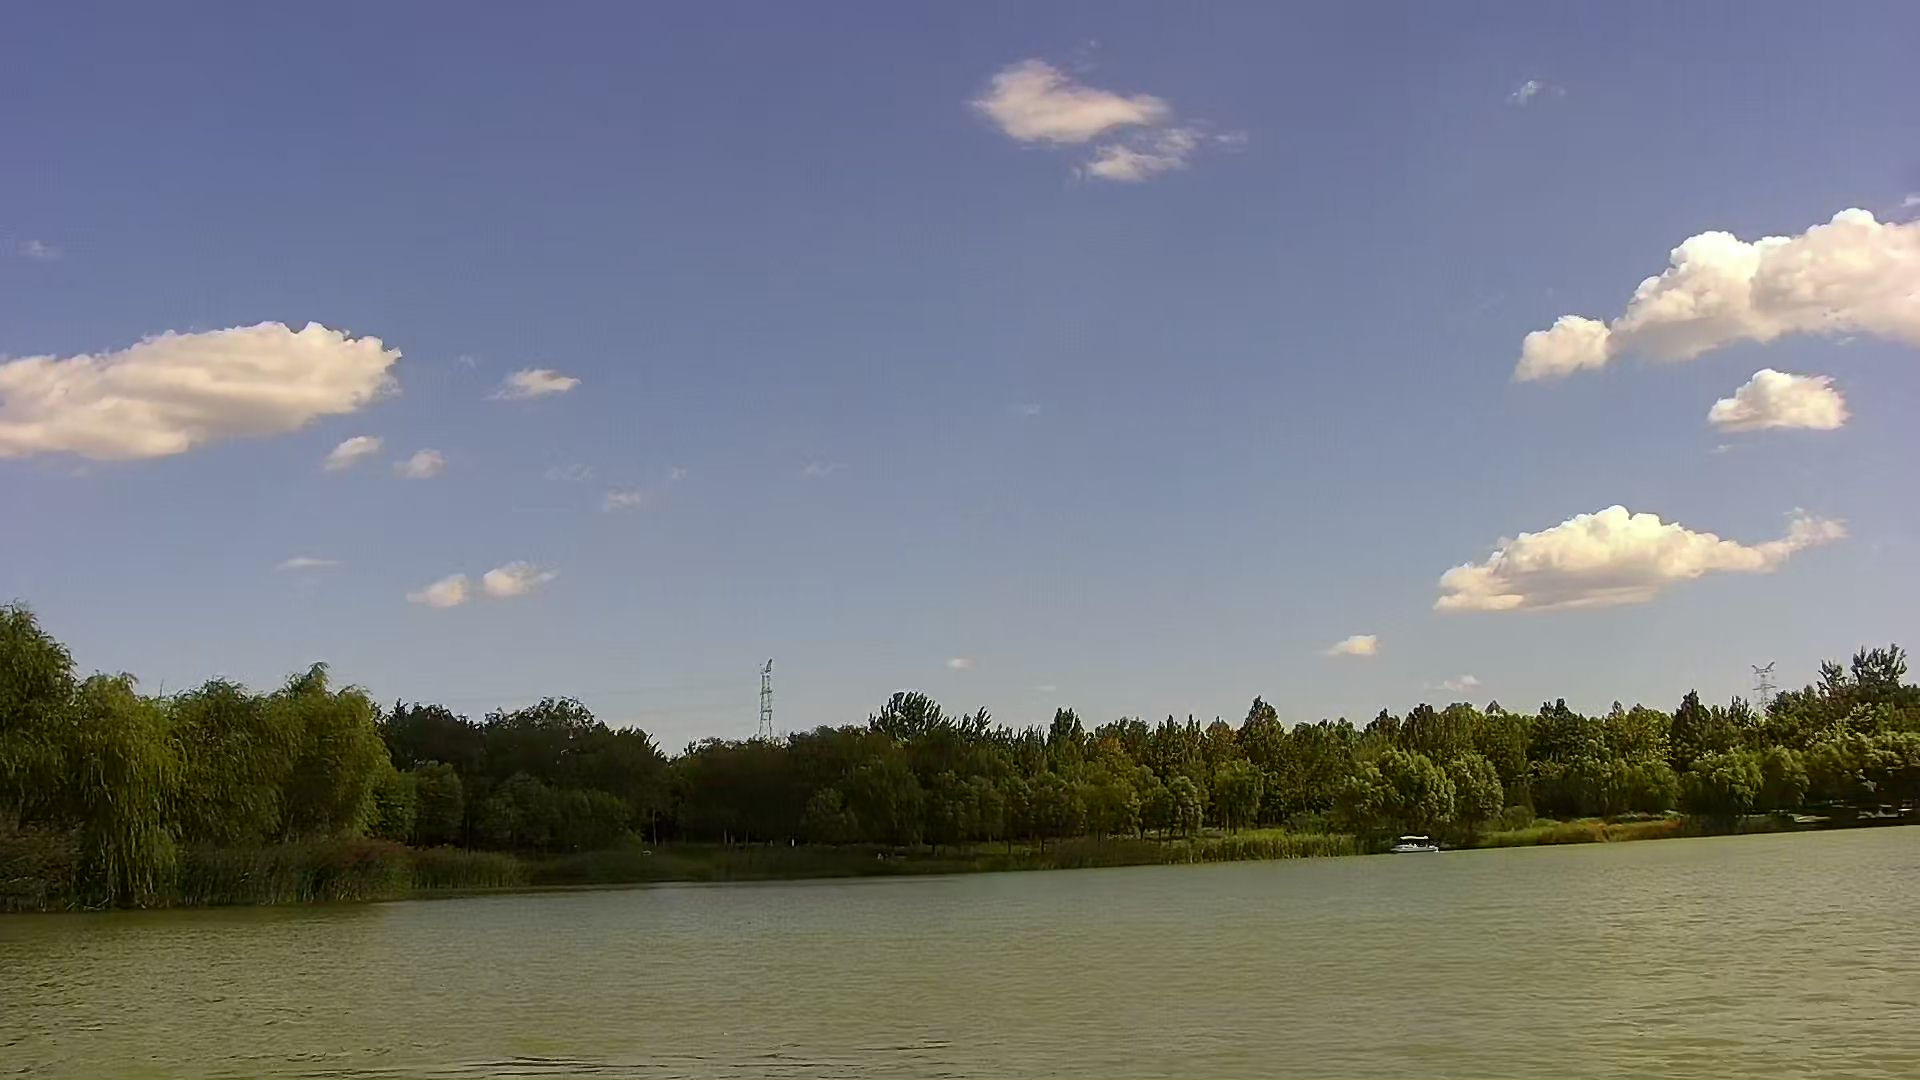boat: (1385, 833, 1433, 855)
